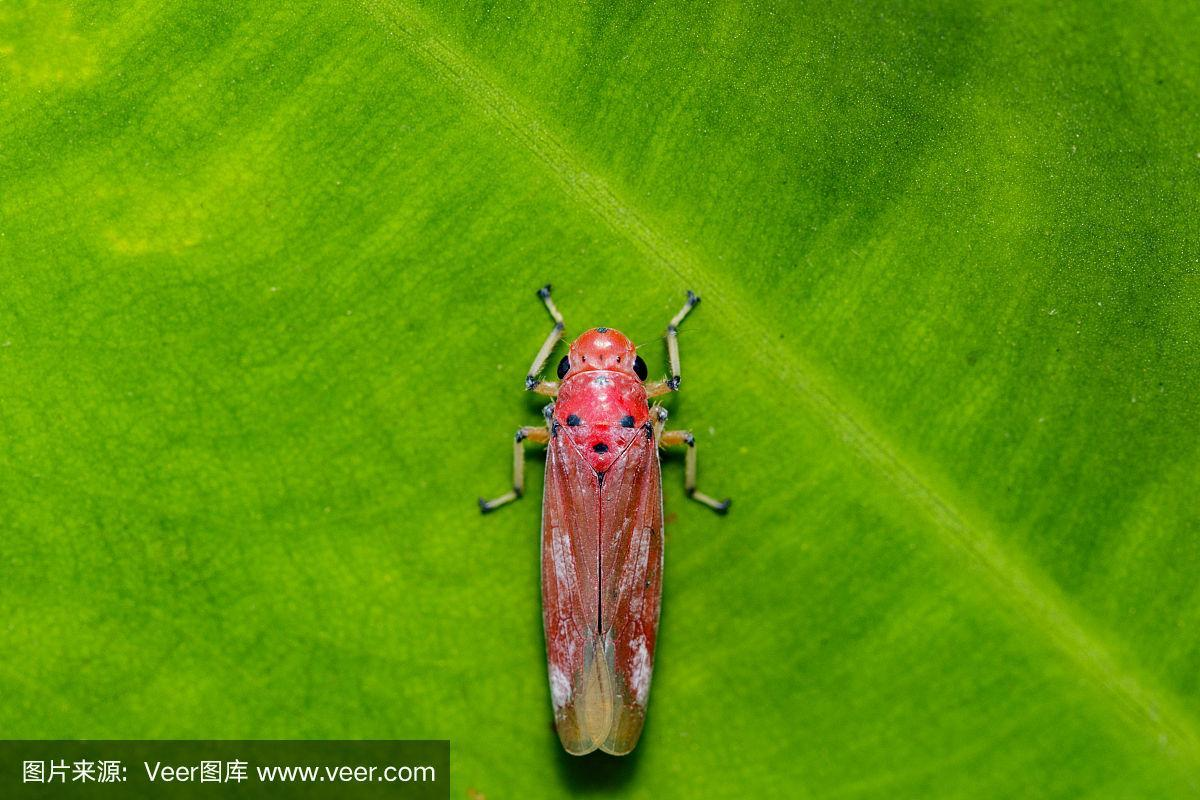Cicadellidae: (484, 286, 728, 760)
